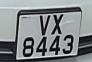3: (60, 34, 76, 55)
4: (35, 35, 49, 58), (48, 35, 62, 57)
8: (20, 35, 37, 59)
V: (37, 15, 52, 36)
X: (51, 13, 65, 36)
